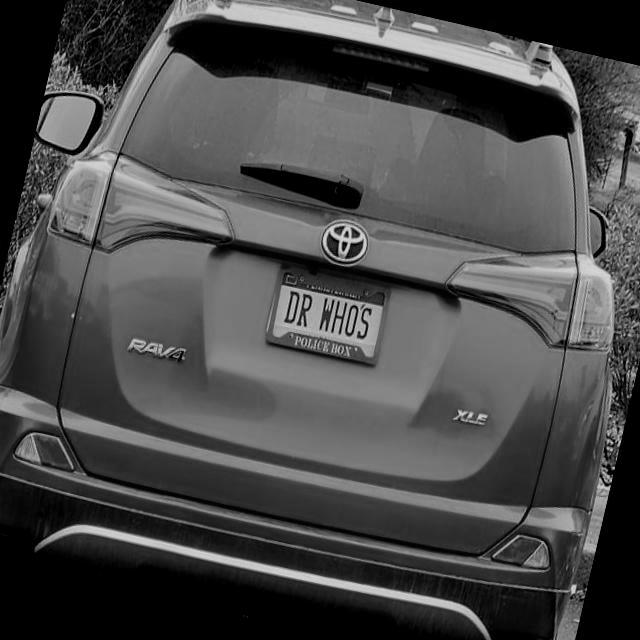LicensePlate: (260, 260, 393, 368)
